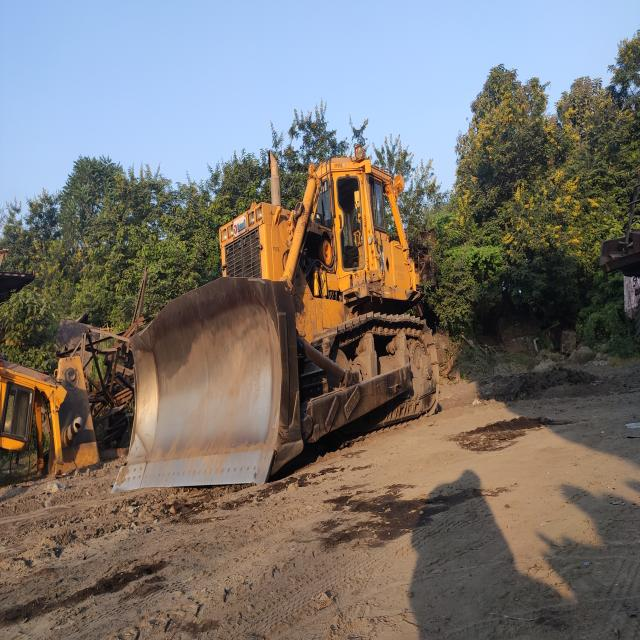buldozerpayloadergrader: (114, 147, 439, 491)
